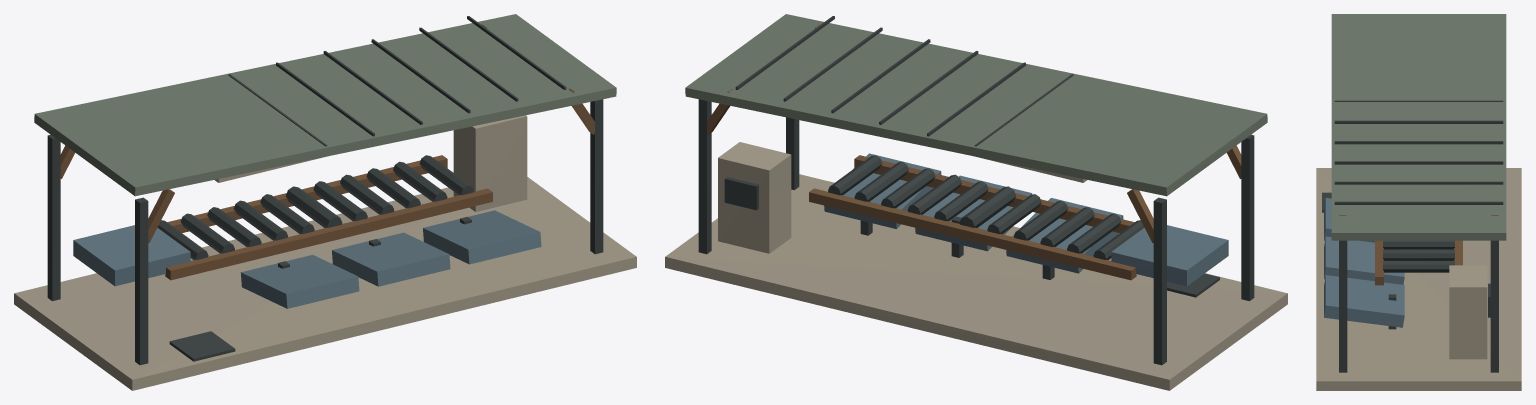
The model's file is egg-sorting-station.source.glb.
3 renders of one model, left to right at view 1: azimuth 30°, elevation 25°; view 2: azimuth 150°, elevation 25°; view 3: azimuth 270°, elevation 25°, orthographic. The views are drawn at different scales.
Visible parts, largest first — view 1: egg-sorting-station-slim-canopy-mesh, egg-sorting-station-hygienic-pad-mesh, egg-sorting-station-control-cabinet-mesh, egg-sorting-station-front-conveyor-rail-mesh, egg-sorting-station-empty-grade-1-tray-mesh, egg-sorting-station-empty-grade-2-tray-mesh, egg-sorting-station-empty-grade-3-tray-mesh, egg-sorting-station-empty-egg-input-tray-mesh, egg-sorting-station-lf-post-mesh, egg-sorting-station-lr-post-mesh, egg-sorting-station-rf-post-mesh, egg-sorting-station-rear-conveyor-rail-mesh (+13 smaller); view 2: egg-sorting-station-slim-canopy-mesh, egg-sorting-station-hygienic-pad-mesh, egg-sorting-station-control-cabinet-mesh, egg-sorting-station-rear-conveyor-rail-mesh, egg-sorting-station-empty-egg-input-tray-mesh, egg-sorting-station-lr-post-mesh, egg-sorting-station-lf-post-mesh, egg-sorting-station-rr-post-mesh, egg-sorting-station-empty-grade-1-tray-mesh, egg-sorting-station-front-conveyor-rail-mesh, egg-sorting-station-empty-grade-3-tray-mesh, egg-sorting-station-empty-grade-2-tray-mesh (+15 smaller); view 3: egg-sorting-station-slim-canopy-mesh, egg-sorting-station-hygienic-pad-mesh, egg-sorting-station-control-cabinet-mesh, egg-sorting-station-empty-grade-3-tray-mesh, egg-sorting-station-empty-grade-2-tray-mesh, egg-sorting-station-rf-post-mesh, egg-sorting-station-rr-post-mesh, egg-sorting-station-static-roller-11-mesh, egg-sorting-station-static-roller-10-mesh, egg-sorting-station-static-roller-9-mesh, egg-sorting-station-canopy-seam-7-mesh, egg-sorting-station-canopy-seam-5-mesh (+7 smaller).
Part boxes in pixels (x1,y1,x2,y2): egg-sorting-station-slim-canopy-mesh: [34, 14, 616, 196]; egg-sorting-station-hygienic-pad-mesh: [14, 177, 636, 390]; egg-sorting-station-control-cabinet-mesh: [453, 115, 527, 211]; egg-sorting-station-front-conveyor-rail-mesh: [165, 188, 492, 280]; egg-sorting-station-empty-grade-1-tray-mesh: [240, 254, 359, 308]; egg-sorting-station-empty-grade-2-tray-mesh: [332, 232, 450, 286]; egg-sorting-station-empty-grade-3-tray-mesh: [423, 210, 541, 264]; egg-sorting-station-empty-egg-input-tray-mesh: [73, 225, 190, 286]; egg-sorting-station-lf-post-mesh: [135, 197, 148, 365]; egg-sorting-station-lr-post-mesh: [47, 134, 60, 301]; egg-sorting-station-rf-post-mesh: [590, 99, 603, 254]; egg-sorting-station-rear-conveyor-rail-mesh: [167, 155, 447, 232]; egg-sorting-station-slim-canopy-mesh: [685, 14, 1267, 196]; egg-sorting-station-hygienic-pad-mesh: [665, 174, 1287, 390]; egg-sorting-station-control-cabinet-mesh: [718, 142, 791, 253]; egg-sorting-station-rear-conveyor-rail-mesh: [809, 188, 1136, 280]; egg-sorting-station-empty-egg-input-tray-mesh: [1111, 225, 1228, 286]; egg-sorting-station-lr-post-mesh: [1153, 197, 1166, 365]; egg-sorting-station-lf-post-mesh: [1241, 134, 1254, 301]; egg-sorting-station-rr-post-mesh: [698, 99, 711, 254]; egg-sorting-station-empty-grade-1-tray-mesh: [1006, 198, 1123, 273]; egg-sorting-station-front-conveyor-rail-mesh: [854, 155, 1134, 232]; egg-sorting-station-empty-grade-3-tray-mesh: [824, 153, 941, 228]; egg-sorting-station-empty-grade-2-tray-mesh: [915, 175, 1032, 251]; egg-sorting-station-slim-canopy-mesh: [1331, 14, 1506, 240]; egg-sorting-station-hygienic-pad-mesh: [1316, 168, 1521, 390]; egg-sorting-station-control-cabinet-mesh: [1449, 265, 1487, 359]; egg-sorting-station-empty-grade-3-tray-mesh: [1324, 275, 1404, 327]; egg-sorting-station-empty-grade-2-tray-mesh: [1324, 236, 1404, 284]; egg-sorting-station-rf-post-mesh: [1339, 240, 1347, 372]; egg-sorting-station-rr-post-mesh: [1490, 240, 1498, 372]; egg-sorting-station-static-roller-11-mesh: [1383, 260, 1454, 272]; egg-sorting-station-static-roller-10-mesh: [1383, 249, 1454, 260]; egg-sorting-station-static-roller-9-mesh: [1383, 240, 1454, 249]; egg-sorting-station-canopy-seam-7-mesh: [1334, 161, 1503, 164]; egg-sorting-station-canopy-seam-5-mesh: [1334, 120, 1503, 123].
Bounding box in the file's own units: 6.65 × 2.45 × 2.7.
